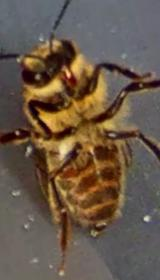varroa_mite: (54, 161, 82, 179)
